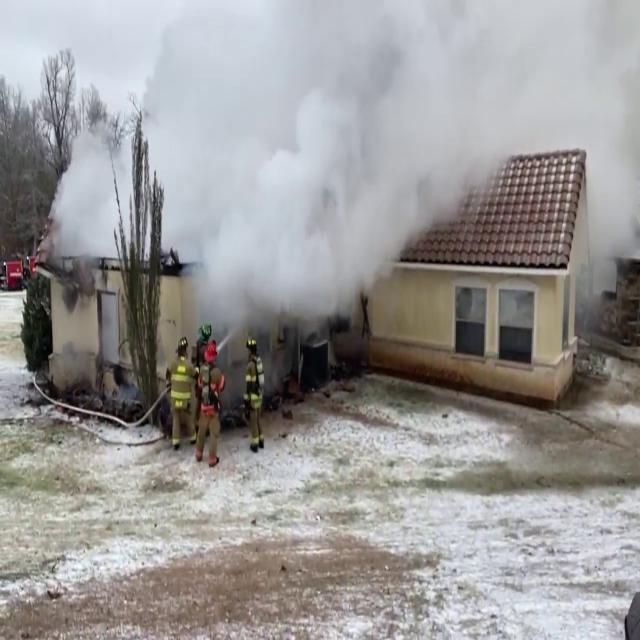Smoke: (193, 0, 640, 274)
